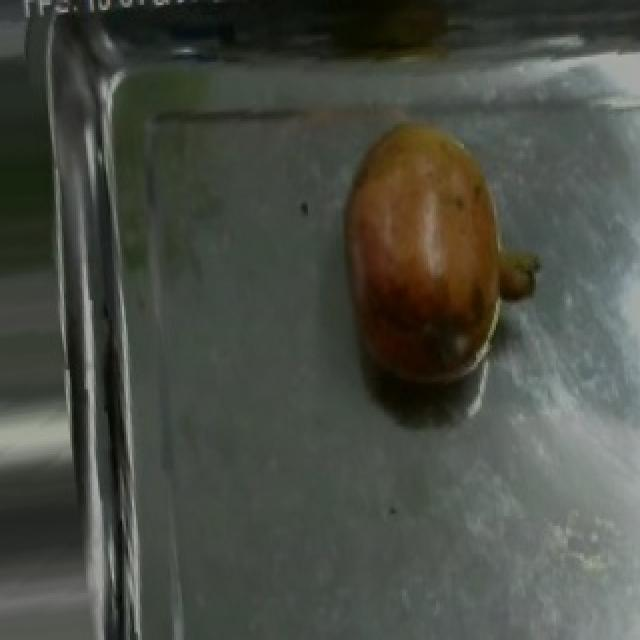fruit: (332, 114, 538, 409)
